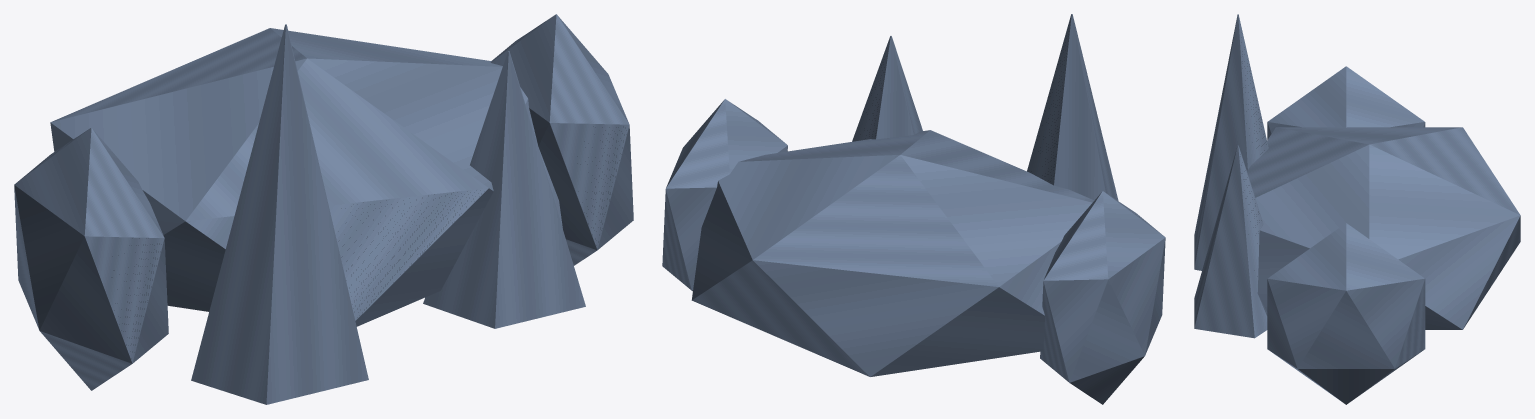
The model's file is guard_bequest.glb.
3 views of the same model, side by side, from view 1: azimuth 30°, elevation 25°; view 2: azimuth 150°, elevation 25°; view 3: azimuth 270°, elevation 25° (orthographic). The views are drawn at different scales.
Visible parts, largest first — view 1: gear_guard_bequest; view 2: gear_guard_bequest; view 3: gear_guard_bequest.
Boxes of the visible parts, x1,y1,x2,y2 form: gear_guard_bequest: (14, 14, 633, 404); gear_guard_bequest: (662, 14, 1165, 404); gear_guard_bequest: (1194, 14, 1520, 404).
Bounding box in the file's own units: 0.5873 × 0.39 × 0.4223.
Materials: 1 (1 with a texture image).
